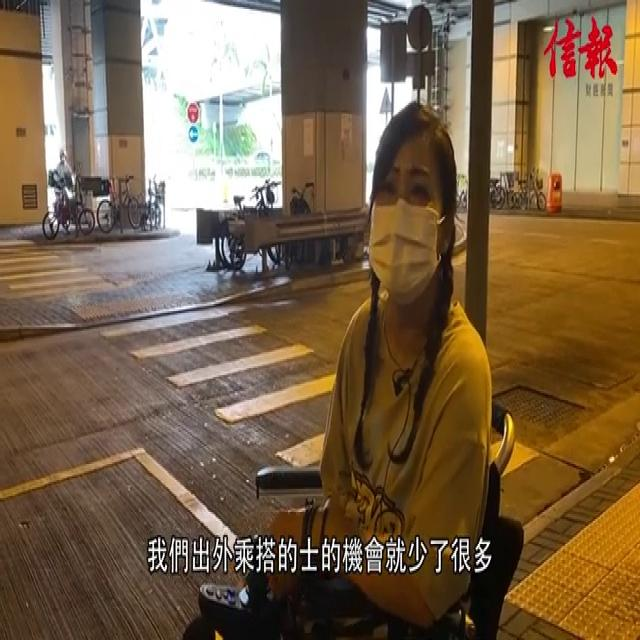wheelchairs: (195, 401, 526, 640)
